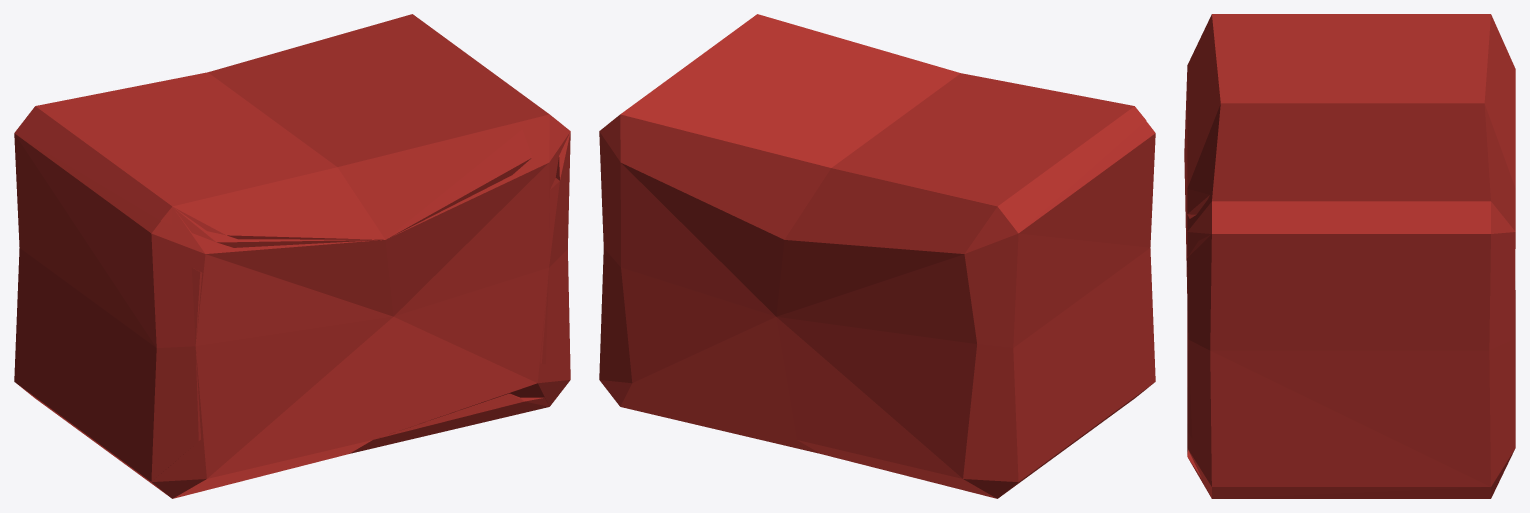
Rendered from fragmented_blockL.glb.
3 renders of one model, left to right at view 1: azimuth 30°, elevation 25°; view 2: azimuth 150°, elevation 25°; view 3: azimuth 270°, elevation 25°, orthographic.
Visible parts, largest first — view 1: blockL-hit1-Visual, blockL-ColVis.006, blockL-ColVis.002, blockL-hit2-Visual, blockL-ColVis.001, blockL-ColVis.005; view 2: blockL-hit1-Visual, blockL-ColVis.006, blockL-ColVis.005; view 3: blockL-hit1-Visual, blockL-ColVis.002, blockL-hit2-Visual, blockL-ColVis.001.
Boxes of the visible parts, <box> form: blockL-hit1-Visual: <box>14,14,570,498</box>; blockL-ColVis.006: <box>15,134,392,347</box>; blockL-ColVis.002: <box>394,249,570,383</box>; blockL-hit2-Visual: <box>151,129,570,481</box>; blockL-ColVis.001: <box>373,317,570,439</box>; blockL-ColVis.005: <box>16,134,393,316</box>; blockL-hit1-Visual: <box>599,14,1155,498</box>; blockL-ColVis.006: <box>1019,133,1155,247</box>; blockL-ColVis.005: <box>1019,121,1155,232</box>; blockL-hit1-Visual: <box>1184,14,1515,498</box>; blockL-ColVis.002: <box>1187,339,1490,486</box>; blockL-hit2-Visual: <box>1187,33,1211,350</box>; blockL-ColVis.001: <box>1187,380,1488,498</box>.
Size of the model in its own units: 3 by 2 by 2.02.
